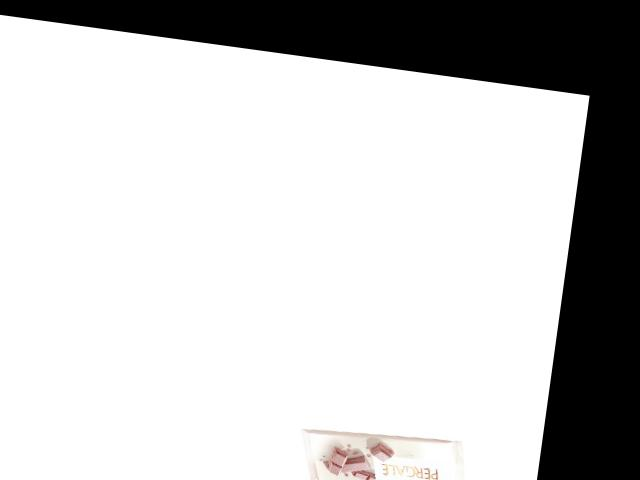chocolate: (291, 421, 475, 480)
